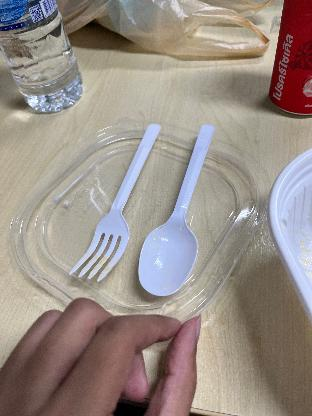Others: (138, 123, 228, 308), (70, 118, 162, 284)
